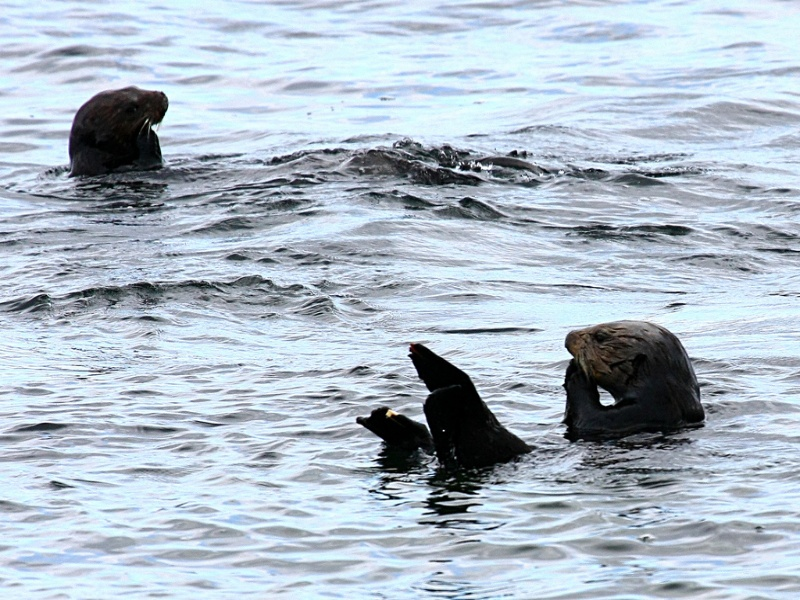minkish: (348, 319, 710, 480), (55, 85, 178, 174)
